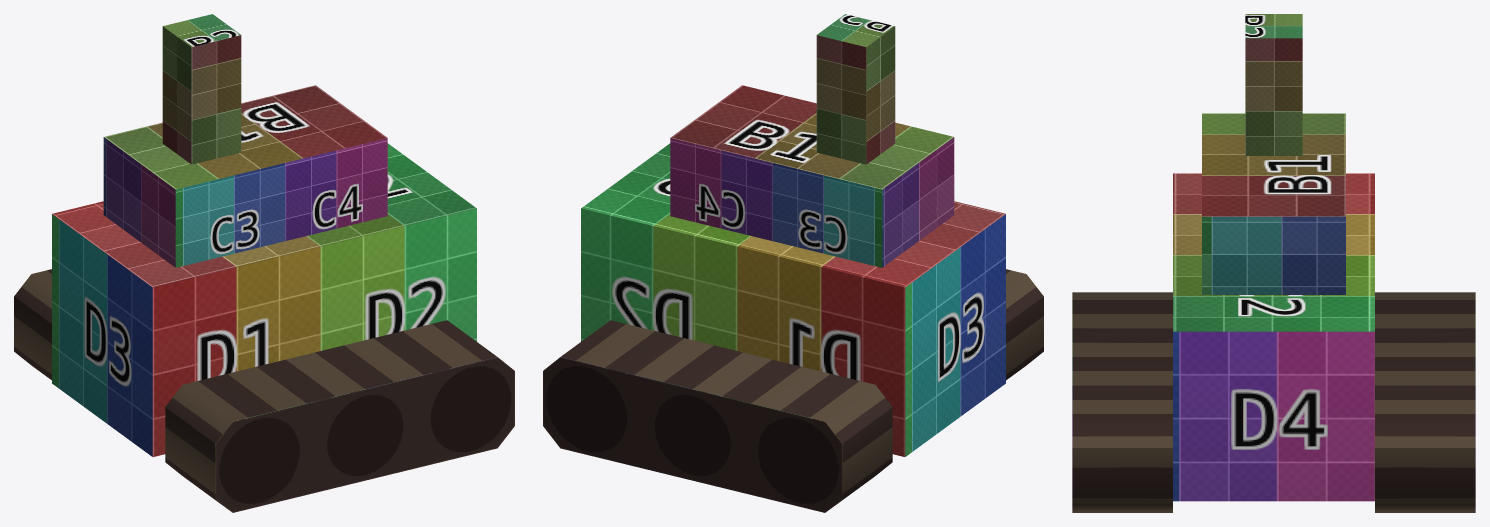
Rendered from landcraft.glb.
3 renders of one model, left to right at view 1: azimuth 30°, elevation 25°; view 2: azimuth 150°, elevation 25°; view 3: azimuth 270°, elevation 25°, orthographic.
Parts seen in each view (by area): view 1: Cube; view 2: Cube; view 3: Cube.
Part boxes in pixels (x1,y1,x2,y2): Cube: (14,14,514,512); Cube: (543,14,1043,512); Cube: (1072,14,1475,512).
Bounding box in the file's own units: 2.6 × 3 × 2.8.
Materials: 1 (1 with a texture image).
